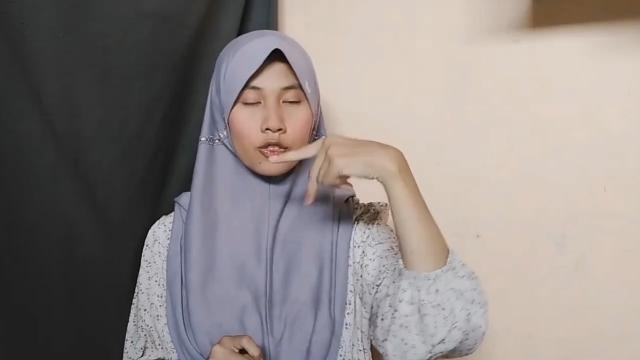P: (267, 125, 397, 211)
